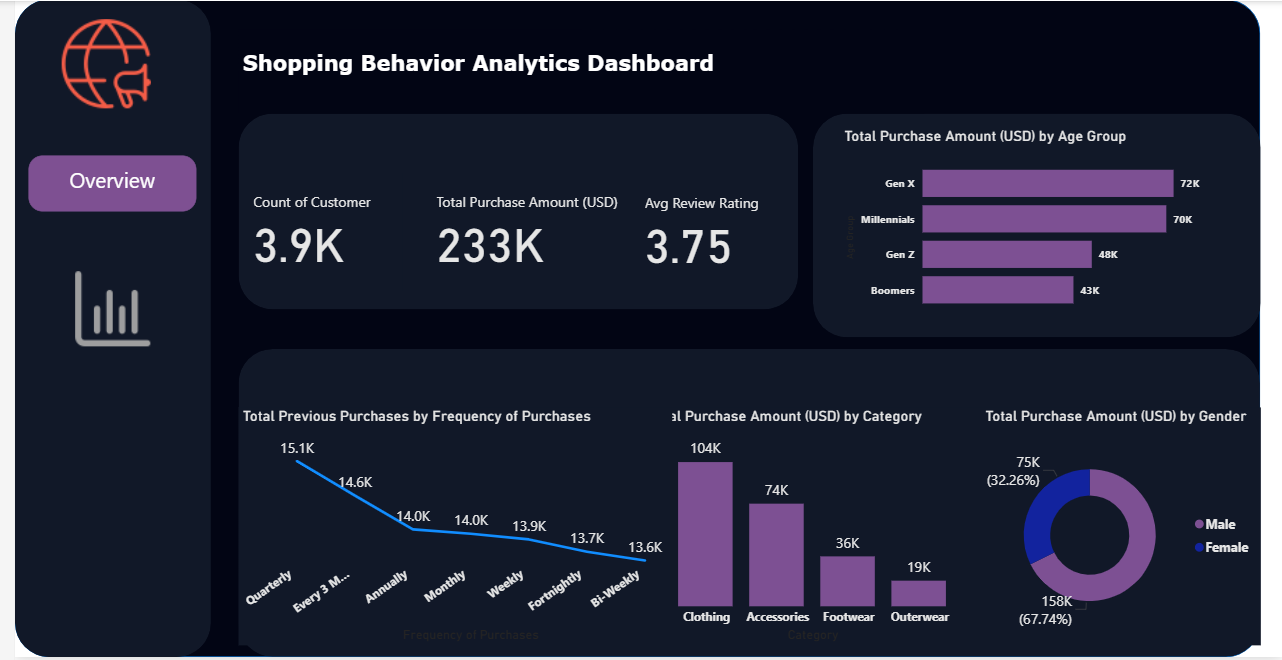

Layout of this report page (visuals, bound fields, positions):
{"tool":"powerbi","page":{"name":"Overview","canvas":[1450,750],"ordinal":0},"visuals":[{"type":"shape","box":[0,-2,1424,752],"z":0},{"type":"shape","box":[0,-2,224,752],"z":1000},{"type":"shape","box":[256,128,640,224],"z":2000},{"type":"shape","box":[256,398,1152,352],"z":3000},{"type":"shape","box":[912,128,512,256],"z":4000},{"type":"cardVisual","fields":{"Data":["CountNonNull(shopping_behavior_updated.Customer ID)"]},"box":[256,192,192,144],"z":5000},{"type":"cardVisual","fields":{"Data":["Sum(shopping_behavior_updated.Purchase Amount (USD))"]},"box":[464,192,256,144],"z":6000},{"type":"cardVisual","fields":{"Data":["Avg(shopping_behavior_updated.Review Rating)"]},"box":[704,176,176,176],"z":7000},{"type":"clusteredColumnChart","title":"Total Purchase Amount (USD) by Category","fields":{"Category":["shopping_behavior_updated.Category"],"Y":["Sum(shopping_behavior_updated.Purchase Amount (USD))"]},"box":[672,480,384,256],"z":8000},{"type":"clusteredBarChart","title":"Total Purchase Amount (USD) by Age Group","fields":{"Category":["shopping_behavior_updated.Age Group"],"Y":["Sum(shopping_behavior_updated.Purchase Amount (USD))"]},"box":[944,144,416,224],"z":9000},{"type":"donutChart","title":"Total Purchase Amount (USD) by Gender","fields":{"Category":["shopping_behavior_updated.Gender"],"Y":["Sum(shopping_behavior_updated.Purchase Amount (USD))"]},"box":[1056,464,352,256],"z":10000},{"type":"barChart","title":"Total Previous Purchases by Frequency of Purchases","fields":{"Category":["shopping_behavior_updated.Frequency of Purchases"],"Y":["Sum(shopping_behavior_updated.Previous Purchases)"]},"box":[256,464,416,256],"z":11000},{"type":"textbox","box":[16,176,192,64],"z":12000},{"type":"textbox","box":[256,32,784,96],"z":13000},{"type":"image","box":[48,16,112,112],"z":14000},{"type":"image","box":[64,304,96,96],"z":15000}]}

Visuals, with their boxes in screenshot pixels (x1, y1, x2, y2), scaled from the page's 1450x750 canvas onto the 1282x660 screenshot:
shape: 0,0,1259,659
shape: 0,0,198,659
shape: 226,113,792,310
shape: 226,350,1245,659
shape: 806,113,1259,338
cardVisual - CountNonNull(shopping_behavior_updated.Customer ID): 226,169,396,296
cardVisual - Sum(shopping_behavior_updated.Purchase Amount (USD)): 410,169,637,296
cardVisual - Avg(shopping_behavior_updated.Review Rating): 622,155,778,310
"Total Purchase Amount (USD) by Category" clusteredColumnChart: 594,422,934,648
"Total Purchase Amount (USD) by Age Group" clusteredBarChart: 835,127,1202,324
"Total Purchase Amount (USD) by Gender" donutChart: 934,408,1245,634
"Total Previous Purchases by Frequency of Purchases" barChart: 226,408,594,634
textbox: 14,155,184,211
textbox: 226,28,920,113
image: 42,14,141,113
image: 57,268,141,352
